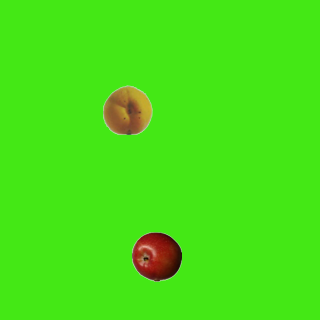Apple Braeburn: (131, 231, 181, 281)
Peach 2: (102, 84, 152, 134)
